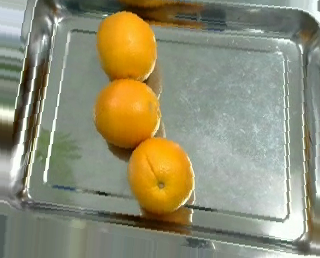Orange: (127, 137, 195, 213), (94, 78, 161, 147), (97, 11, 156, 83)
